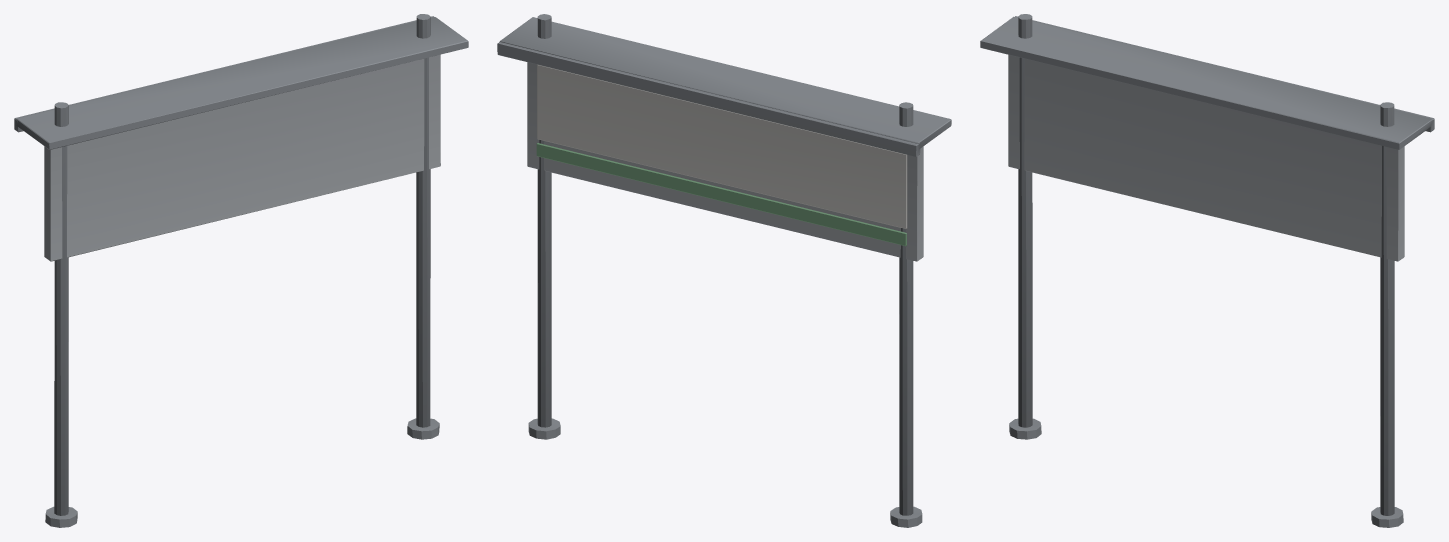
Rendered from sign_station_low.glb.
The picture shows the model from 3 angles, left to right: view 1: azimuth 30°, elevation 25°; view 2: azimuth 150°, elevation 25°; view 3: azimuth 330°, elevation 25°; orthographic projection.
Size of the model in its own units: 2.9 by 2.75 by 0.4218.
